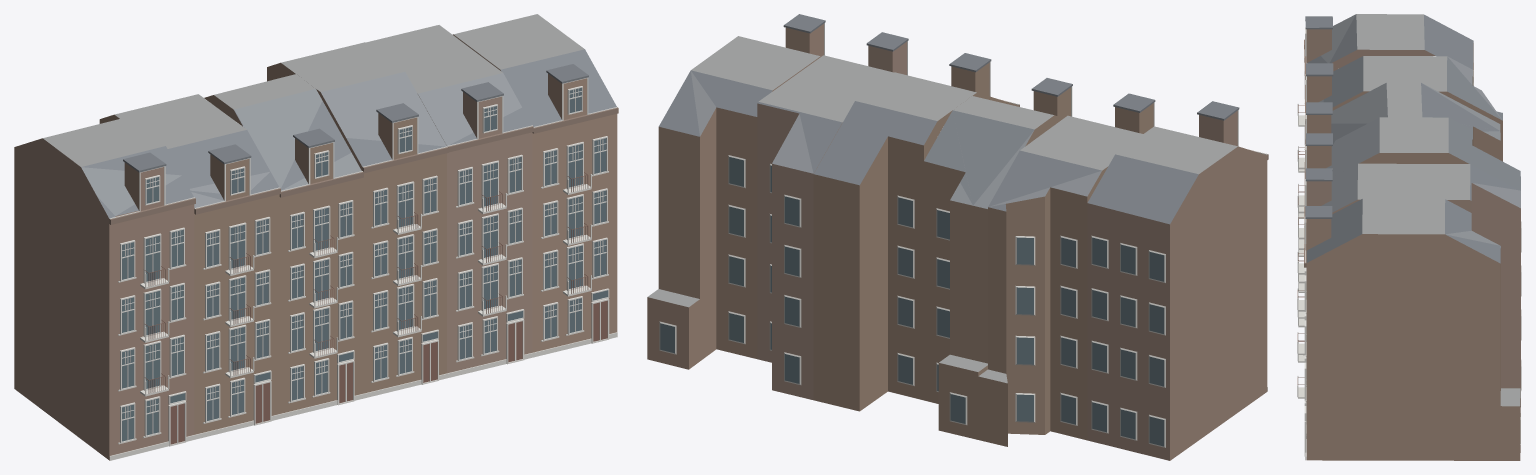
The model's file is chunk-face-helmers-23-57-r2.glb.
3 renders of one model, left to right at view 1: azimuth 30°, elevation 25°; view 2: azimuth 150°, elevation 25°; view 3: azimuth 270°, elevation 25°, orthographic. The views are drawn at different scales.
Visible parts, largest first — view 1: face-helmers-23-57-r2; view 2: face-helmers-23-57-r2; view 3: face-helmers-23-57-r2.
Boxes of the visible parts, box(x1,y1,x2,y2) form: face-helmers-23-57-r2: box(14, 14, 618, 460); face-helmers-23-57-r2: box(647, 14, 1268, 460); face-helmers-23-57-r2: box(1297, 14, 1521, 460).
Bounding box in the file's own units: 35.39 × 18.8 × 15.7.
